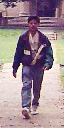person: (14, 17, 53, 116)
